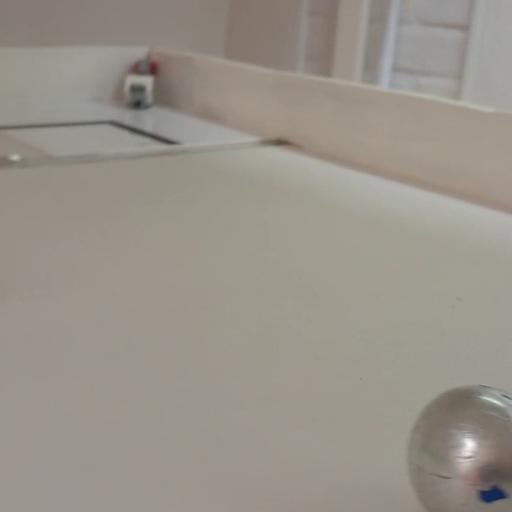alive: (412, 379, 511, 512)
